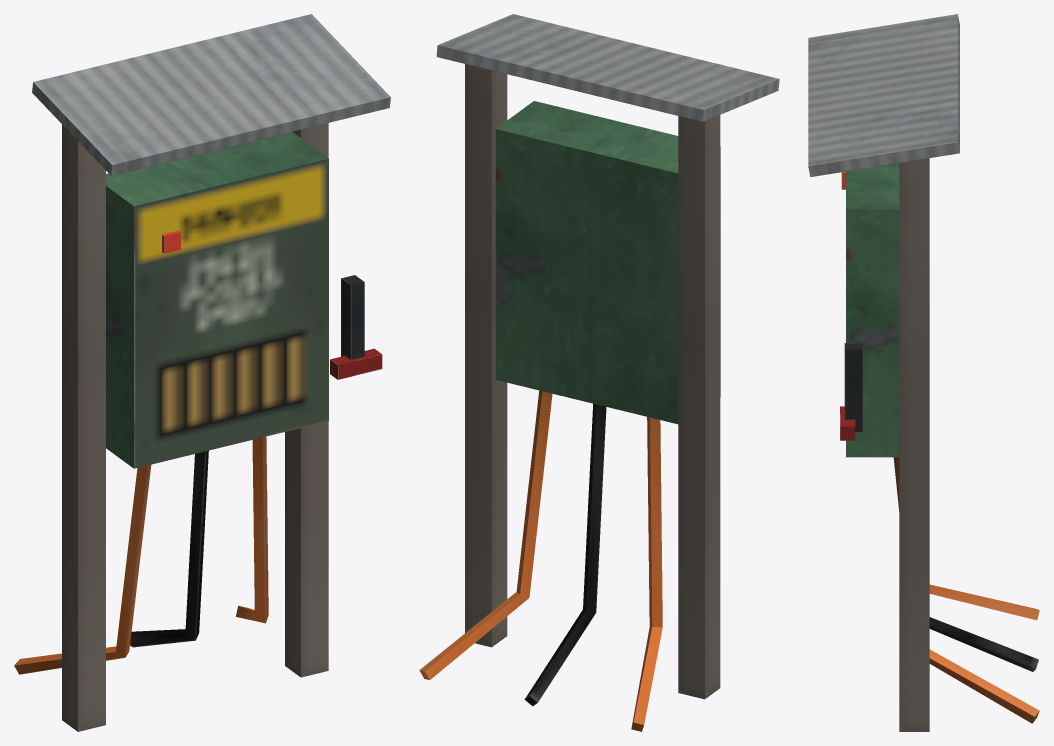
File: power_panel.obj
3 renders of one model, left to right at view 1: azimuth 30°, elevation 25°; view 2: azimuth 150°, elevation 25°; view 3: azimuth 270°, elevation 25°, orthographic. The views are drawn at different scales.
Parts seen in each view (by area): view 1: power_panel, power_panel_handle; view 2: power_panel; view 3: power_panel, power_panel_handle.
Boxes of the visible parts, left/top/right/bottom form: power_panel: left=14, top=14, right=390, bottom=731; power_panel_handle: left=330, top=275, right=382, bottom=379; power_panel: left=419, top=14, right=779, bottom=731; power_panel: left=808, top=14, right=1039, bottom=731; power_panel_handle: left=840, top=343, right=862, bottom=440.
Size of the model in its own units: 1.03 by 2.16 by 0.762.
Materials: 1 (1 with a texture image).
